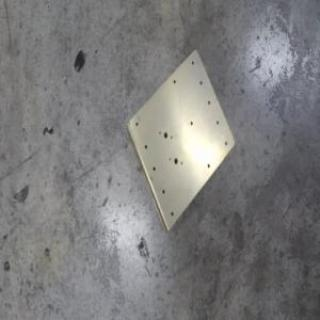MetalSheettrack_idkeyframe: (124, 46, 235, 233)
